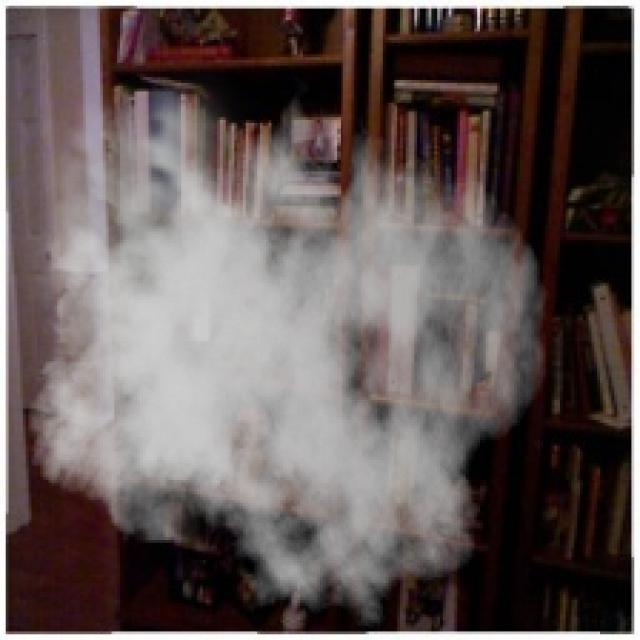Smoke: (11, 60, 548, 629)
